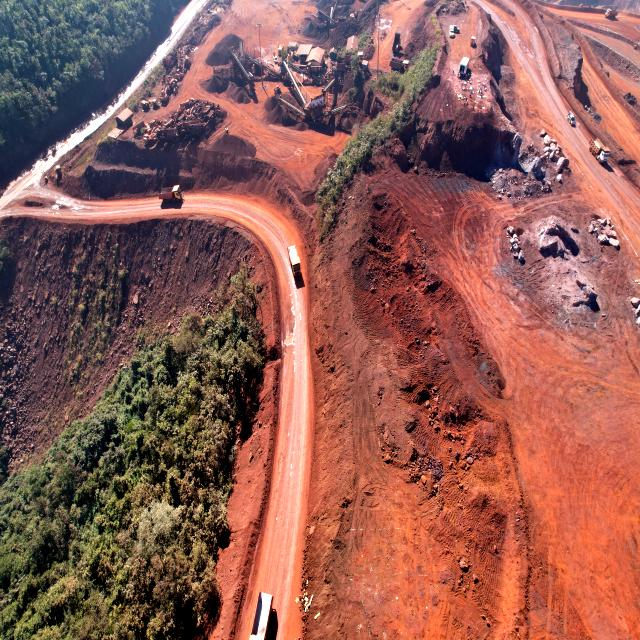Dumper truck: (252, 587, 273, 640), (590, 138, 610, 164), (289, 245, 303, 278), (161, 186, 182, 202), (394, 26, 402, 53), (345, 52, 363, 64), (391, 60, 409, 71), (604, 9, 618, 18)
Excavator: (349, 9, 368, 21), (160, 83, 169, 103)
car: (567, 112, 576, 127), (450, 25, 454, 37), (454, 26, 460, 32)
person: (469, 93, 472, 100), (472, 103, 474, 110), (474, 60, 476, 67), (453, 67, 455, 74), (466, 101, 468, 107), (277, 42, 279, 48)
